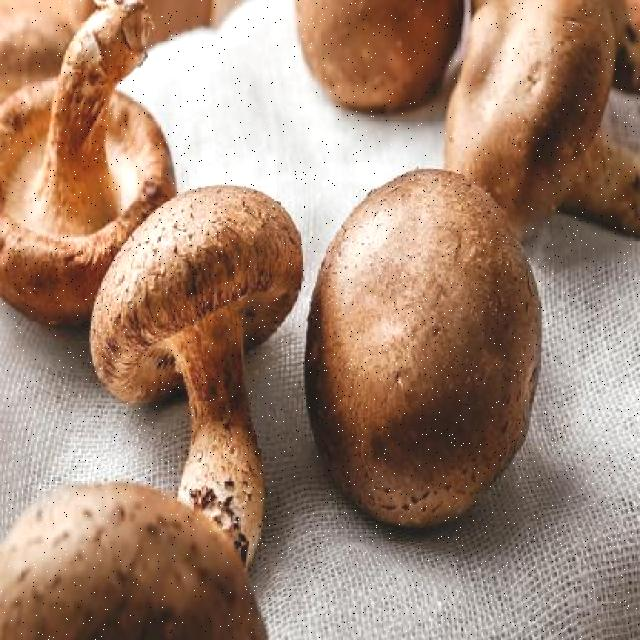Mushroom: (73, 169, 302, 571), (303, 160, 545, 518)
